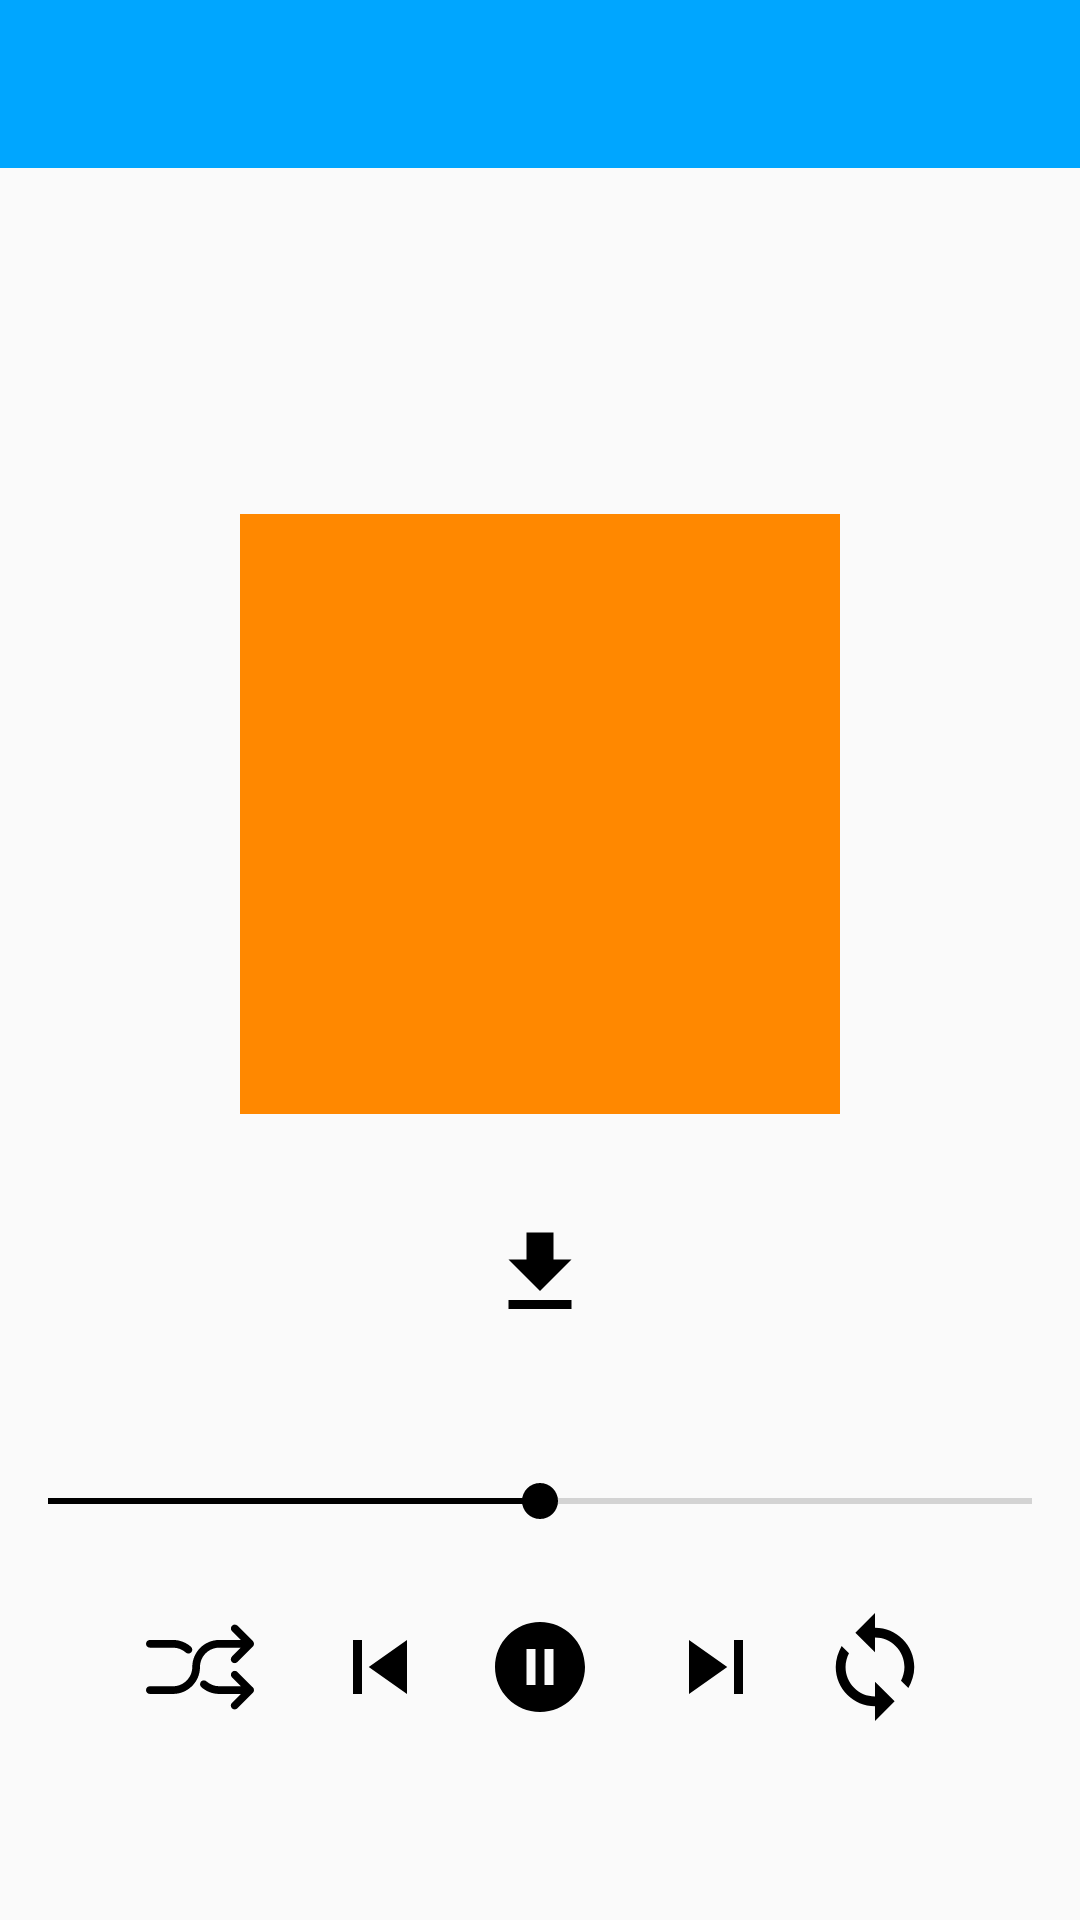

Named icons in this screenshot (1080 x 1920) and their bounding boxes, bbox(x1, y1, x2, y2):
download: bbox(508, 1232, 572, 1309)
loop: bbox(835, 1613, 915, 1721)
next: bbox(689, 1640, 743, 1694)
pause: bbox(495, 1622, 585, 1712)
previous: bbox(353, 1640, 407, 1694)
shuffle: bbox(146, 1624, 254, 1710)
